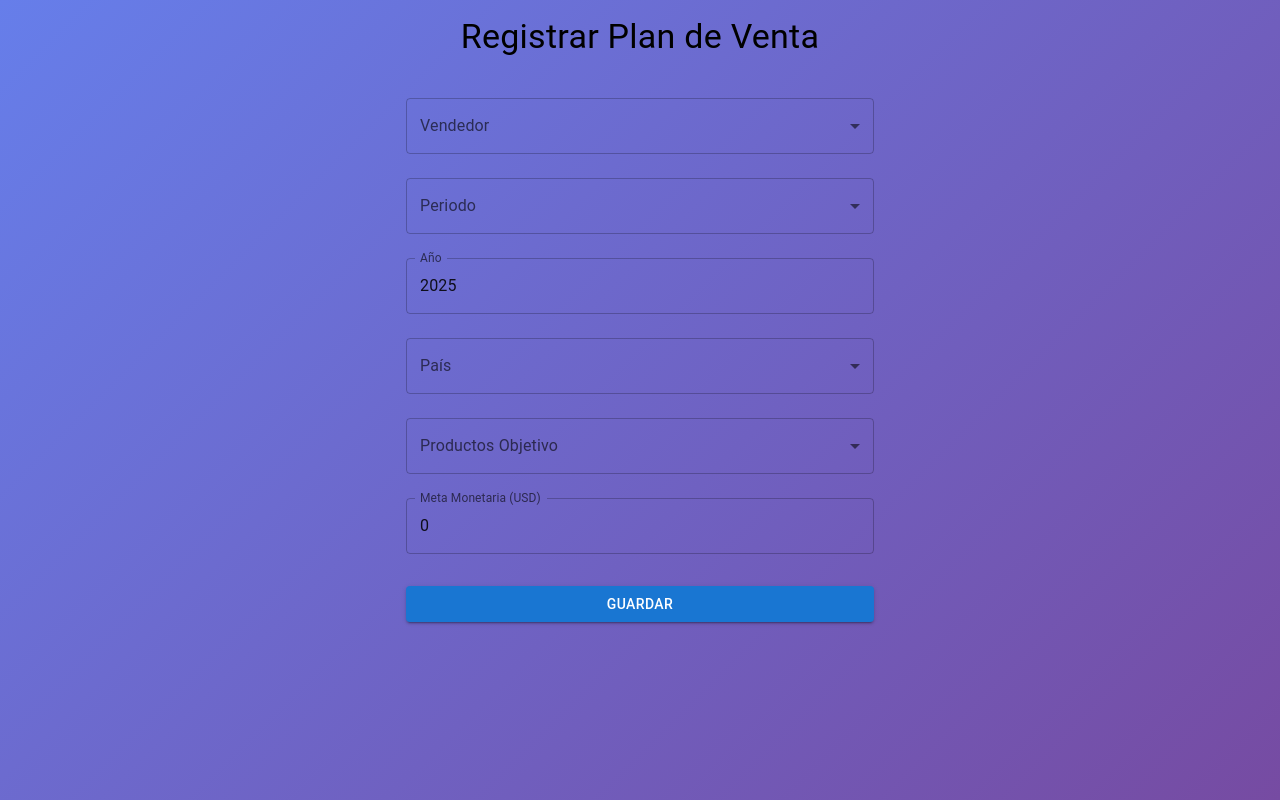
Test: PlanVentaForm › Carga inicial y datos desde API › carga y muestra países desde la API
Click the dropdown named "País" next to "País".
click(640, 366)  # box x1=406 y1=338 x2=874 y2=394
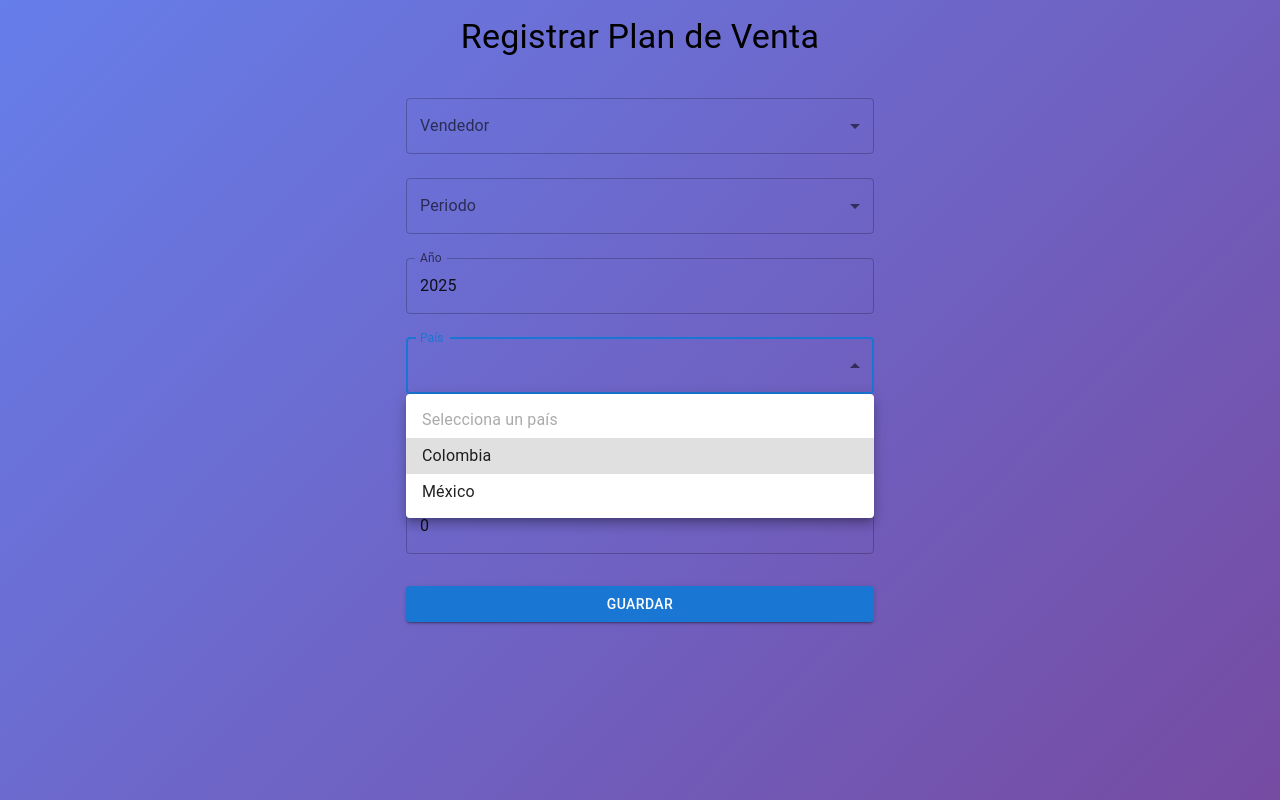
Now the option "Colombia" is shown, box x1=406 y1=438 x2=874 y2=474
Now the option "México" is shown, box x1=422 y1=482 x2=475 y2=501
